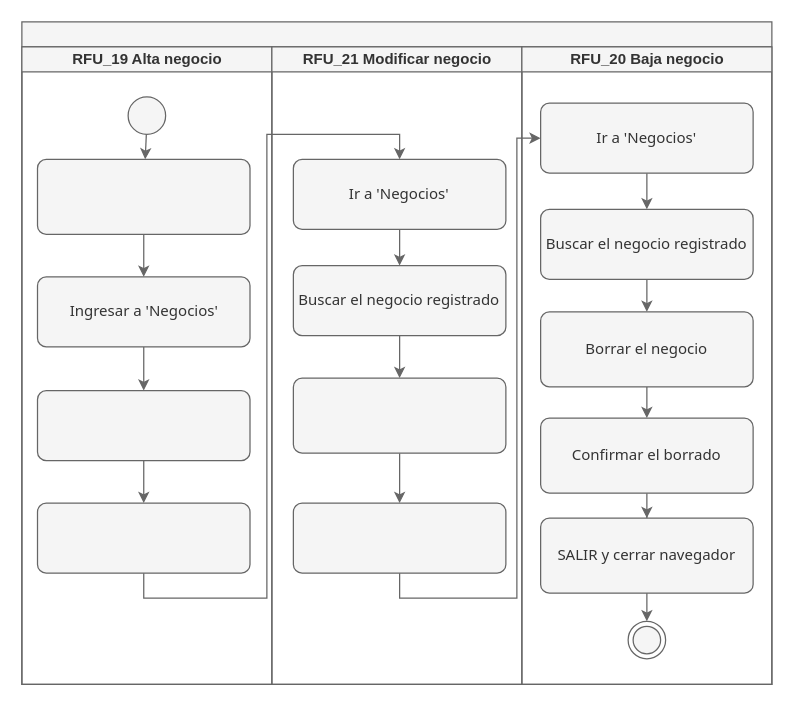
Some shapes in this 794 by 706 pixel diagram are drawn without their labels. Each missing label, with the box of its shape:
Ingresar a 'actualizar' y modificar datos: (292, 377, 506, 453)
Ingresar a la web con usuario valido: (36, 158, 250, 234)
Llenar formulario y registrar: (36, 389, 250, 461)
Validar registro: (36, 502, 250, 573)
Verificar cambio: (292, 502, 506, 573)
